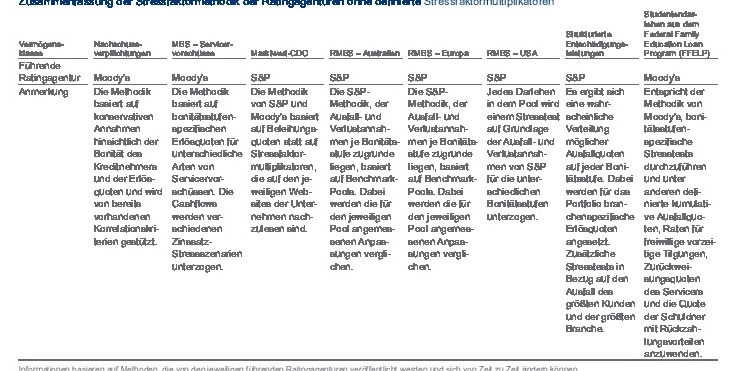table: (0, 0, 733, 371)
